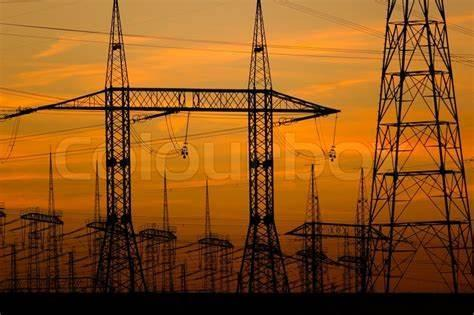power_tower: (184, 1, 344, 292), (56, 0, 184, 292), (358, 1, 474, 294), (288, 160, 339, 290), (341, 160, 384, 294)
